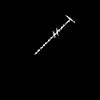treble_crochet: (35, 16, 72, 53)
